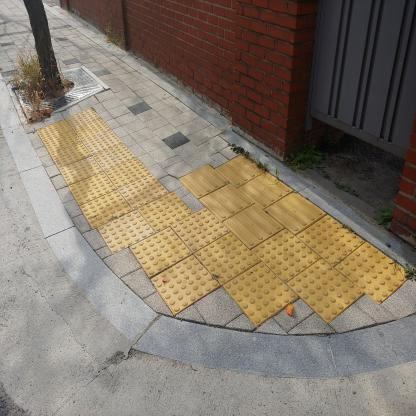podotacti: (33, 103, 416, 330)
